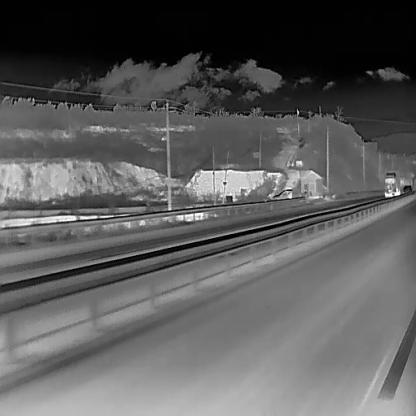car: (270, 188, 292, 200), (400, 184, 412, 196)
truck: (384, 171, 414, 198)
